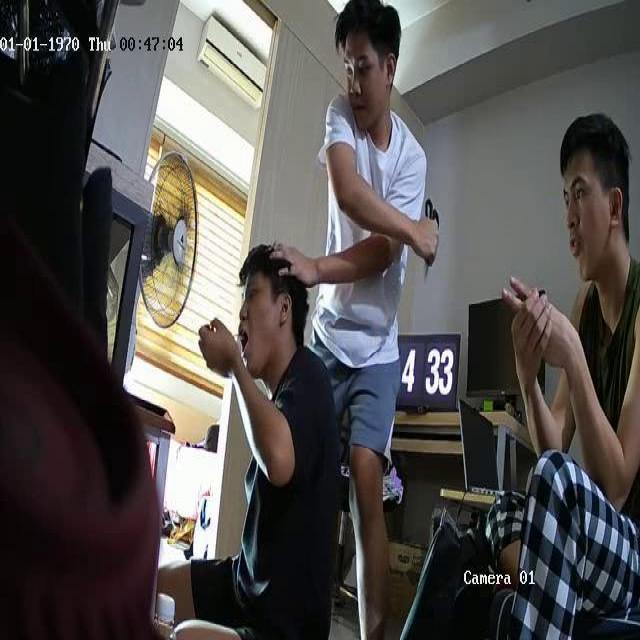scissor: (424, 198, 439, 278)
